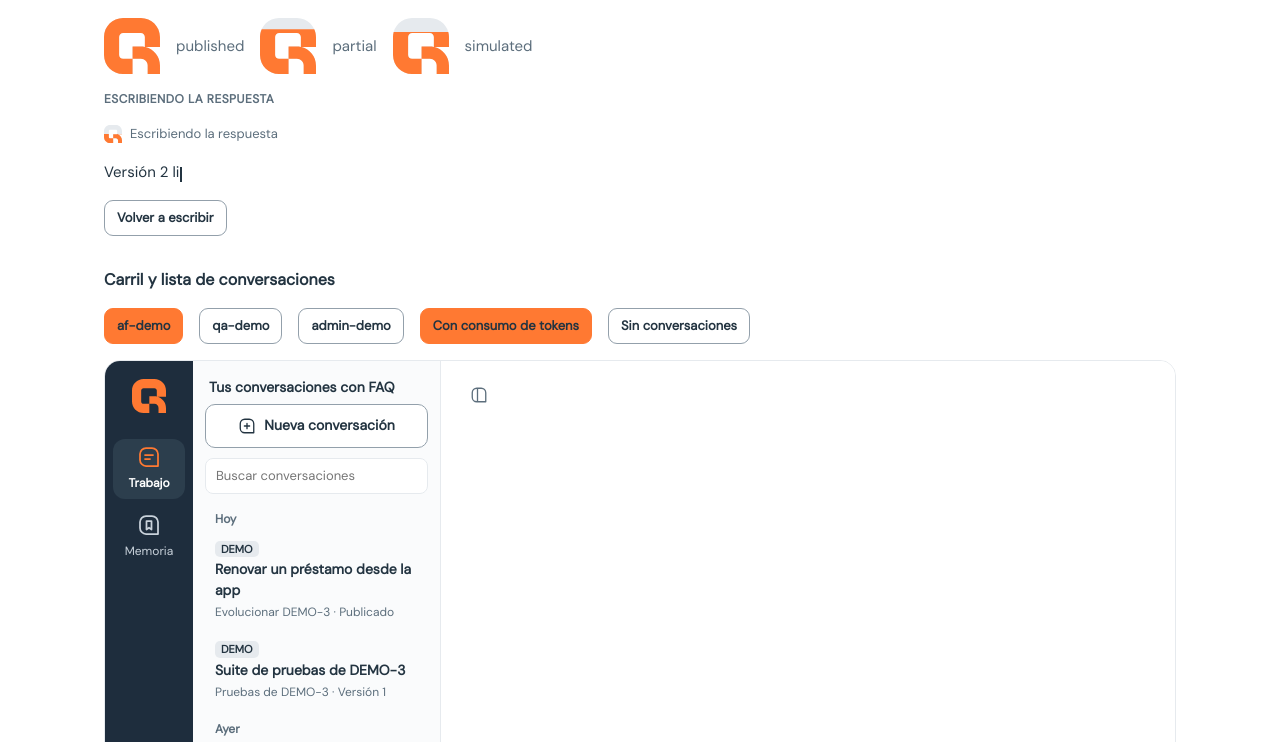
Scenario: Catalog: demo del carril y la lista › el botón de la cabecera pliega la lista y apunta a ella con aria-controls
(page scrolled)
Click the button named "Ocultar conversaciones": click(479, 394) [461, 376, 497, 412]
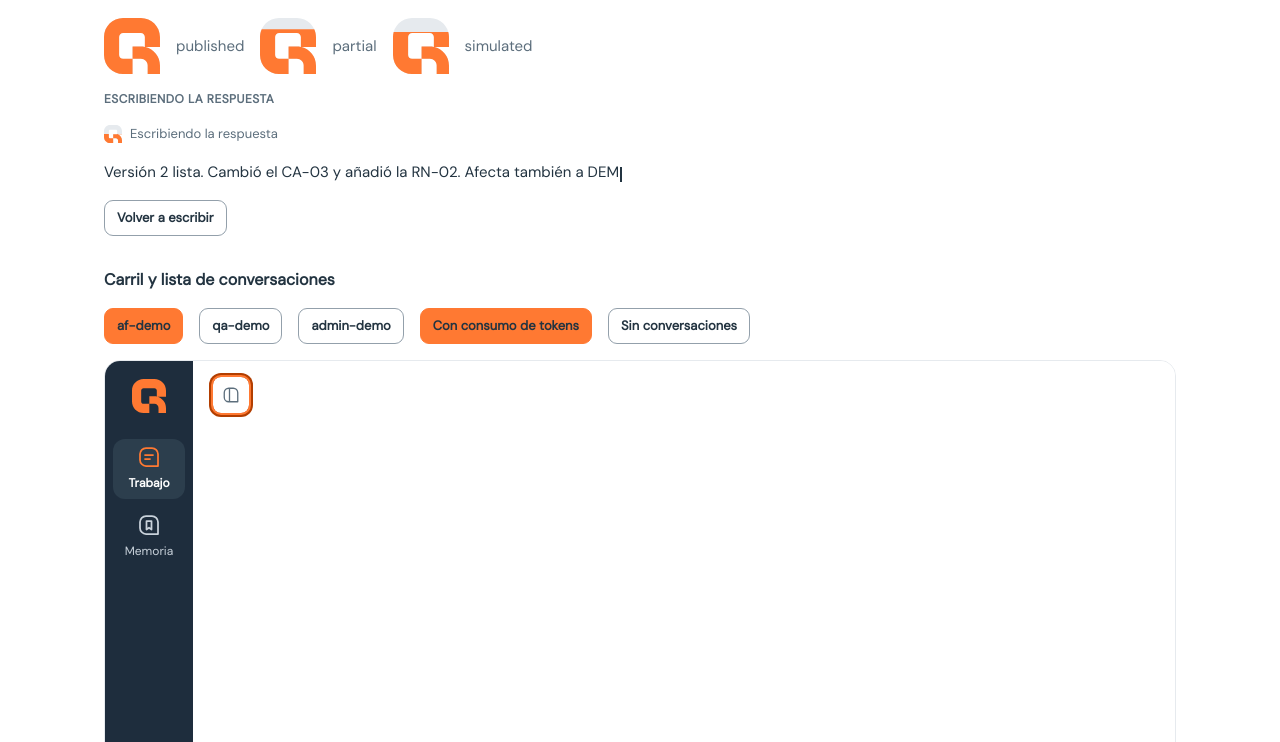
Check: the button named "Mostrar conversaciones" is collapsed, box [213, 376, 249, 412]
